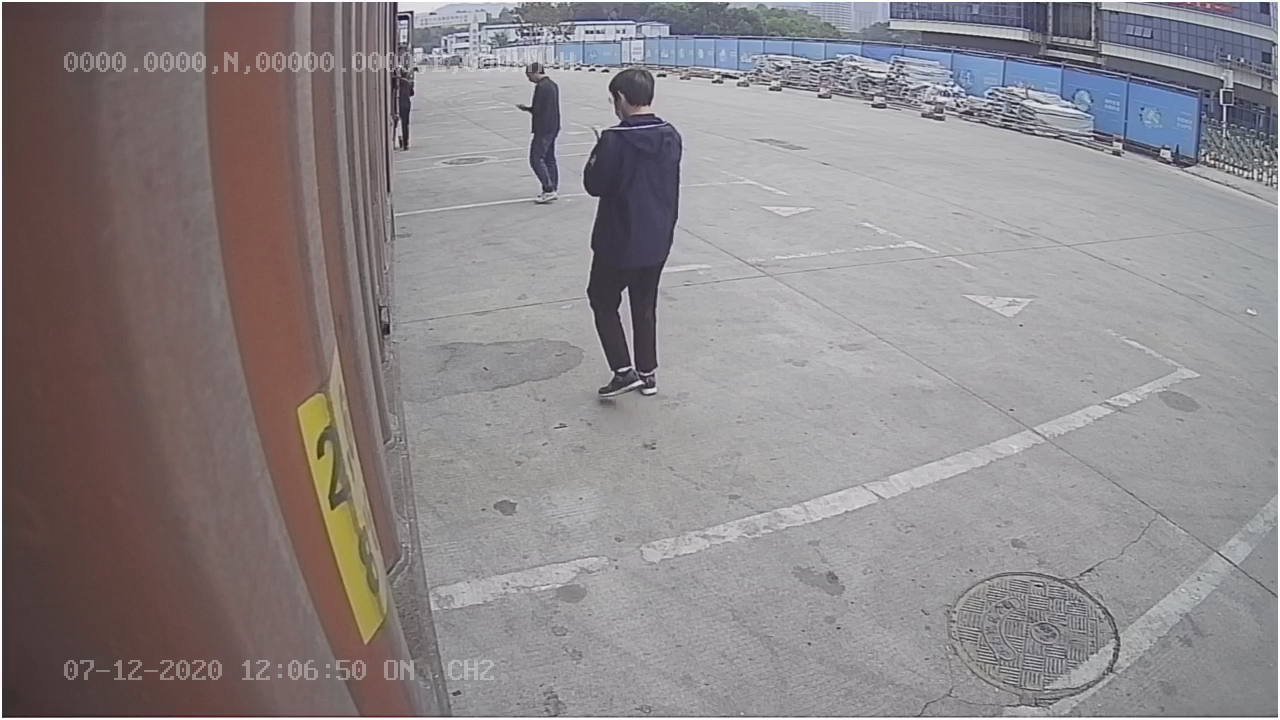person: (579, 65, 685, 401)
